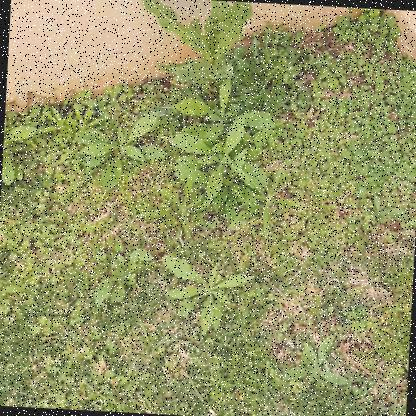Weeds: (165, 113, 276, 223), (131, 0, 253, 91), (225, 22, 337, 119), (71, 107, 167, 198), (158, 254, 255, 337), (171, 75, 282, 146), (226, 161, 314, 242), (138, 175, 214, 245), (94, 244, 151, 313), (282, 334, 350, 391), (1, 114, 38, 188), (63, 101, 104, 142), (364, 192, 408, 228), (42, 103, 73, 137), (403, 336, 409, 382)
